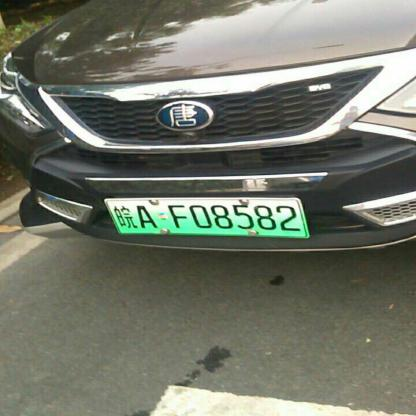lp: (105, 198, 309, 238)
